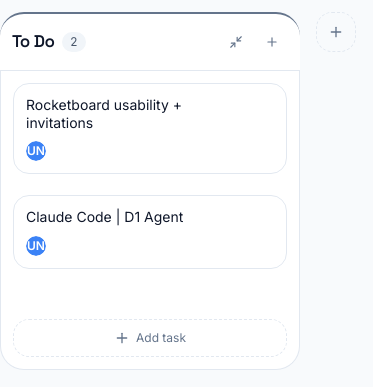
Test: BoardView collapsed columns › collapses and re-expands a column without losing the tasks
Expected: the heading "Rocketboard usability + invitations" is shown, x1=26 y1=96 x2=182 y2=130
Click the button named "Collapse To Do column".
click(236, 42)  # box x1=220 y1=26 x2=252 y2=58
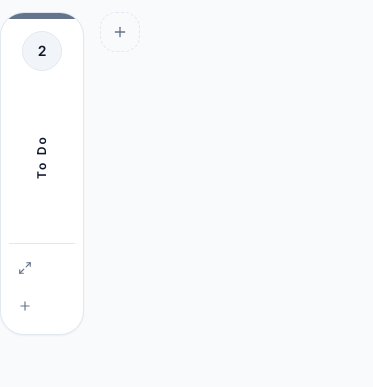
Now the heading "Rocketboard usability + invitations" is gone
Click the button with aria-label "Open To Do column".
click(42, 157)  # box x1=29 y1=83 x2=55 y2=231
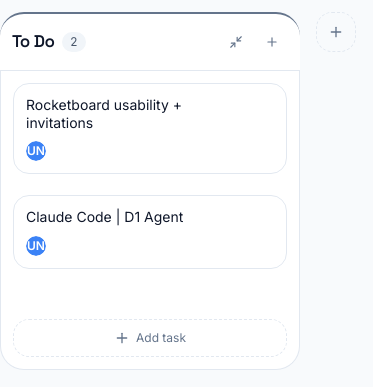
Now the heading "Rocketboard usability + invitations" is shown, box x1=26 y1=96 x2=182 y2=130
